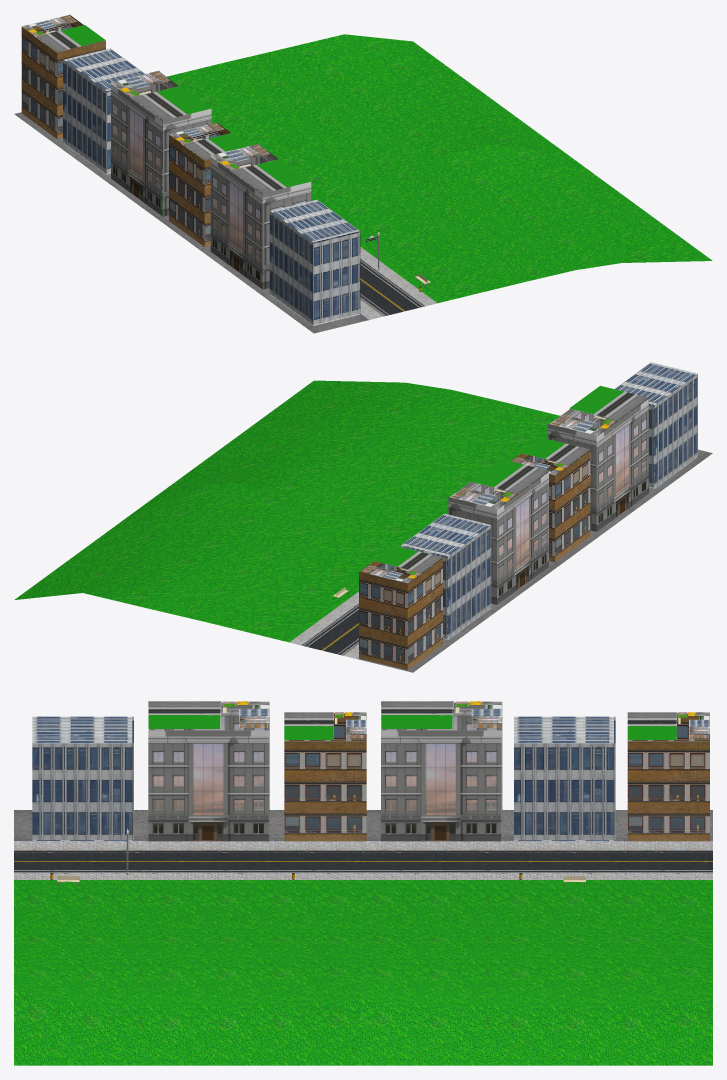
The model's file is park3d.FBX.
3 renders of one model, top to bottom at view 1: azimuth 30°, elevation 25°; view 2: azimuth 150°, elevation 25°; view 3: azimuth 270°, elevation 25°, orthographic. The views are drawn at different scales.
Visible parts, largest first — view 1: Plane001; view 2: Plane001; view 3: Plane001.
Part boxes in pixels (x1=…): Plane001: x1=14, y1=14, x2=712, y2=333; Plane001: x1=14, y1=362, x2=712, y2=672; Plane001: x1=14, y1=701, x2=712, y2=1065.
Bounding box in the file's own units: 63.49 × 18.39 × 82.67.
Materials: 1 (1 with a texture image).
